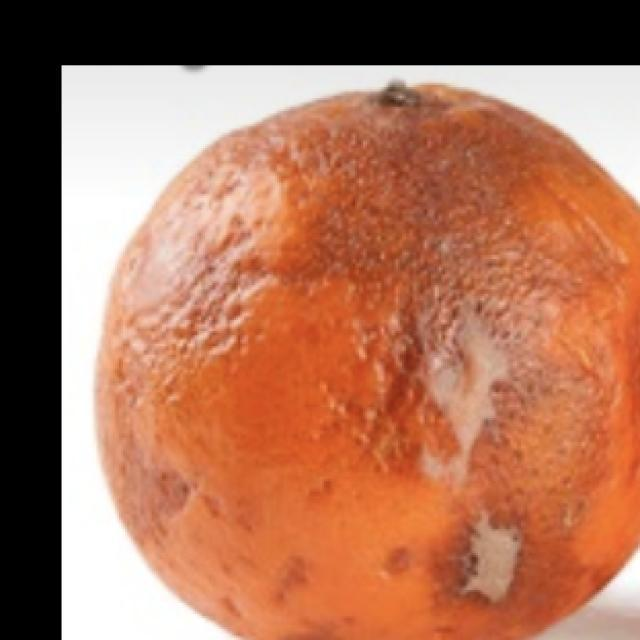sangat-busuk: (97, 84, 639, 639)
